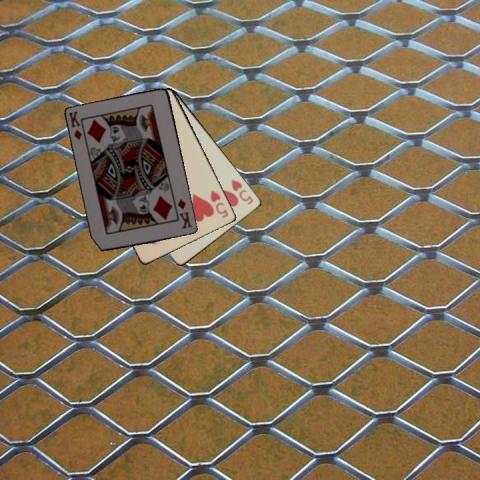5h: (228, 176, 255, 206), (207, 188, 230, 220)
Kd: (175, 196, 193, 230), (66, 108, 83, 141)
